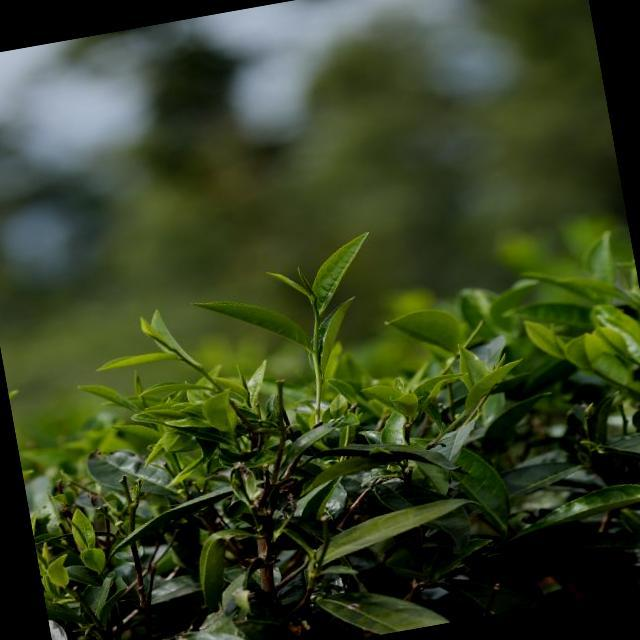Stem: (200, 369, 211, 379), (315, 319, 319, 332)
